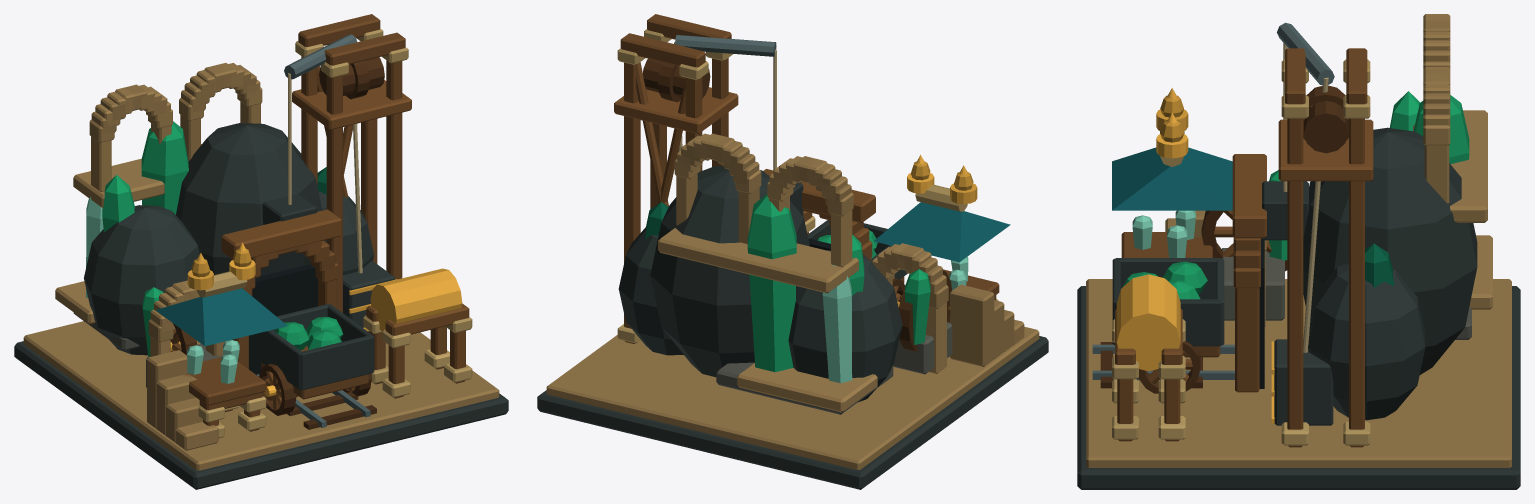
3 renders of one model, left to right at view 1: azimuth 30°, elevation 25°; view 2: azimuth 150°, elevation 25°; view 3: azimuth 270°, elevation 25°, orthographic. The views are drawn at different scales.
Parts seen in each view (by area): view 1: gem_mine_13_structure, gem_mine_13_metal; view 2: gem_mine_13_structure, gem_mine_13_metal; view 3: gem_mine_13_structure, gem_mine_13_metal.
Boxes of the visible parts, x1,y1,x2,y2 form: gem_mine_13_structure: (14, 14, 508, 489); gem_mine_13_metal: (170, 242, 462, 396); gem_mine_13_structure: (537, 14, 1048, 489); gem_mine_13_metal: (897, 155, 977, 306); gem_mine_13_structure: (1077, 14, 1520, 489); gem_mine_13_metal: (1116, 88, 1274, 423).
Size of the model in its own units: 3.6 by 3.49 by 3.6.
